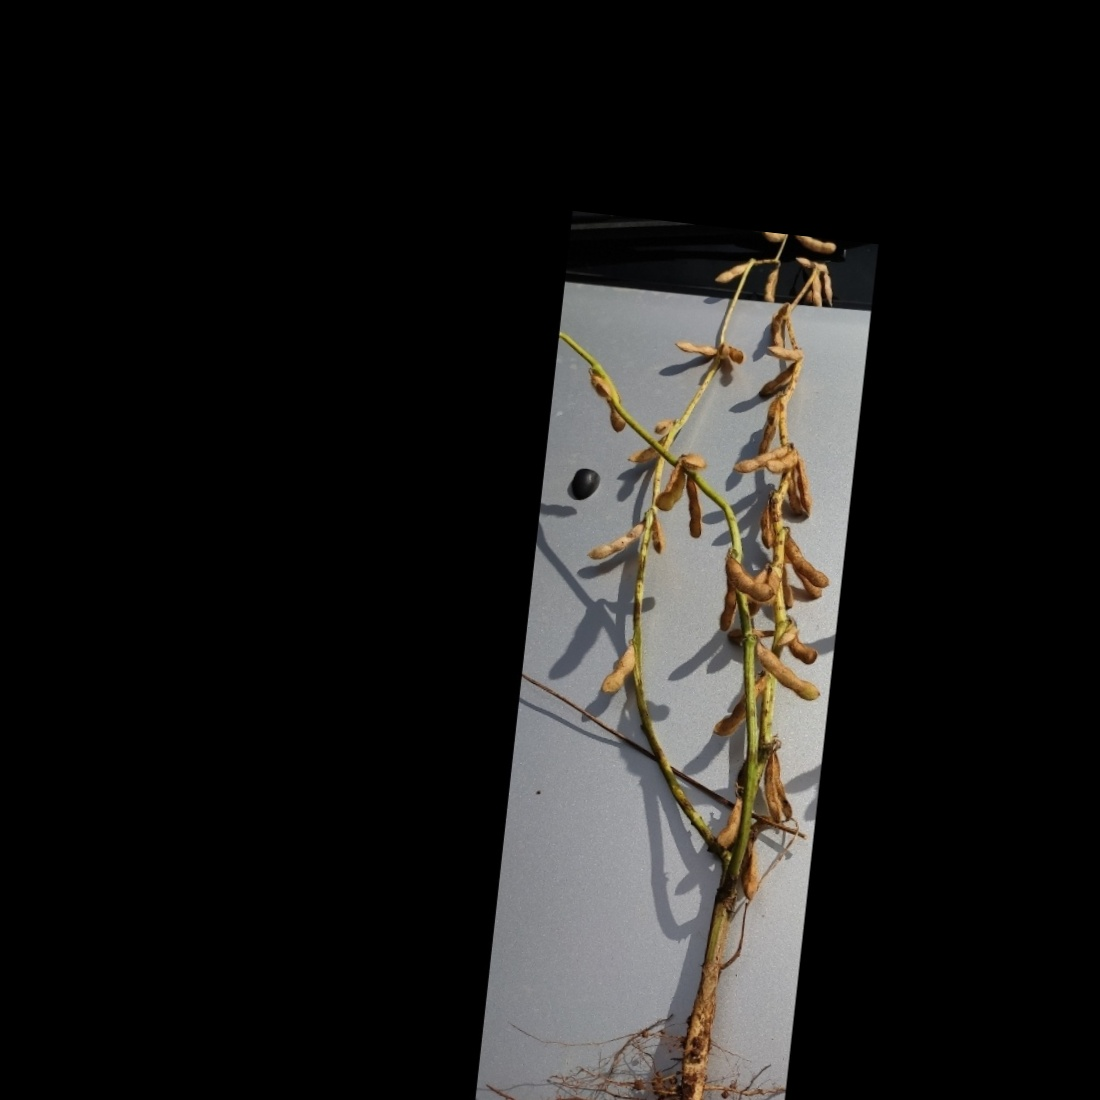pod: (750, 642, 825, 702), (780, 527, 839, 590), (582, 508, 644, 566), (721, 553, 780, 604), (730, 432, 791, 478), (675, 472, 709, 550), (783, 219, 843, 260), (598, 640, 637, 702), (716, 792, 747, 851), (711, 256, 753, 287), (672, 336, 721, 362), (757, 263, 781, 311), (755, 342, 804, 364)
soy: (494, 188, 876, 1100)
